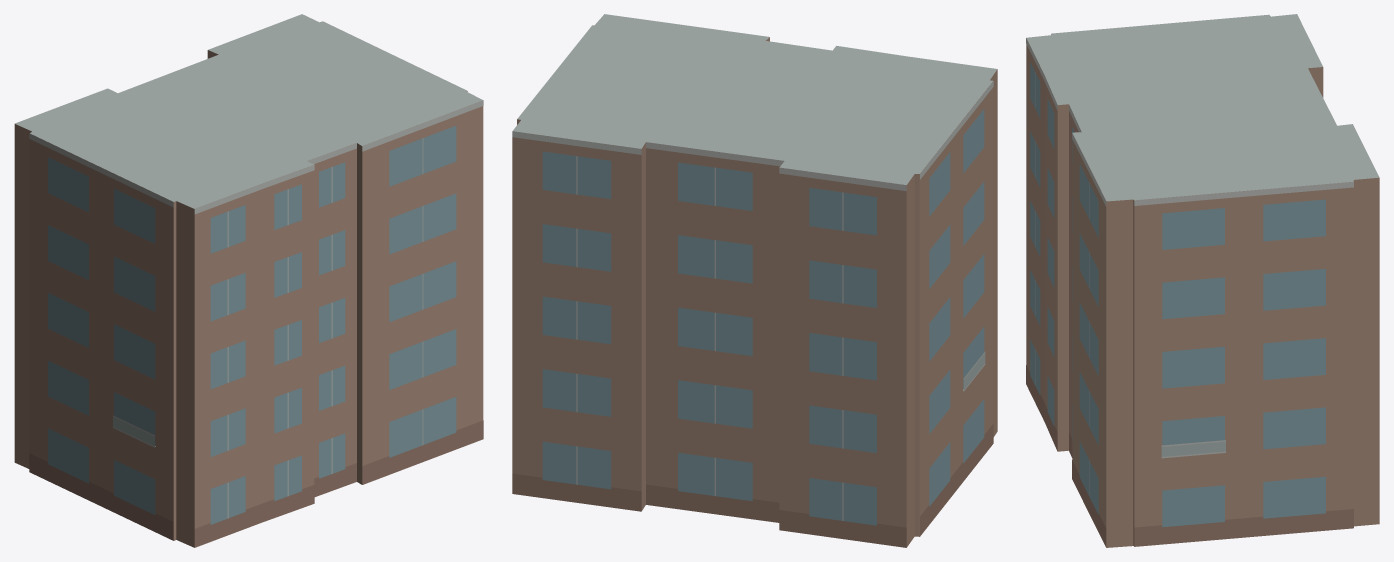
Rendered from survey-upis-32497351.glb.
3 views of the same model, side by side, from view 1: azimuth 30°, elevation 25°; view 2: azimuth 150°, elevation 25°; view 3: azimuth 270°, elevation 25° (orthographic). The views are drawn at different scales.
Parts seen in each view (by area): view 1: survey-upis-32497351.tmp; view 2: survey-upis-32497351.tmp; view 3: survey-upis-32497351.tmp.
Boxes of the visible parts, x1,y1,x2,y2 form: survey-upis-32497351.tmp: [14, 14, 483, 547]; survey-upis-32497351.tmp: [512, 14, 997, 547]; survey-upis-32497351.tmp: [1026, 14, 1379, 547].
Bounding box in the file's own units: 17.05 × 14.7 × 13.6.
